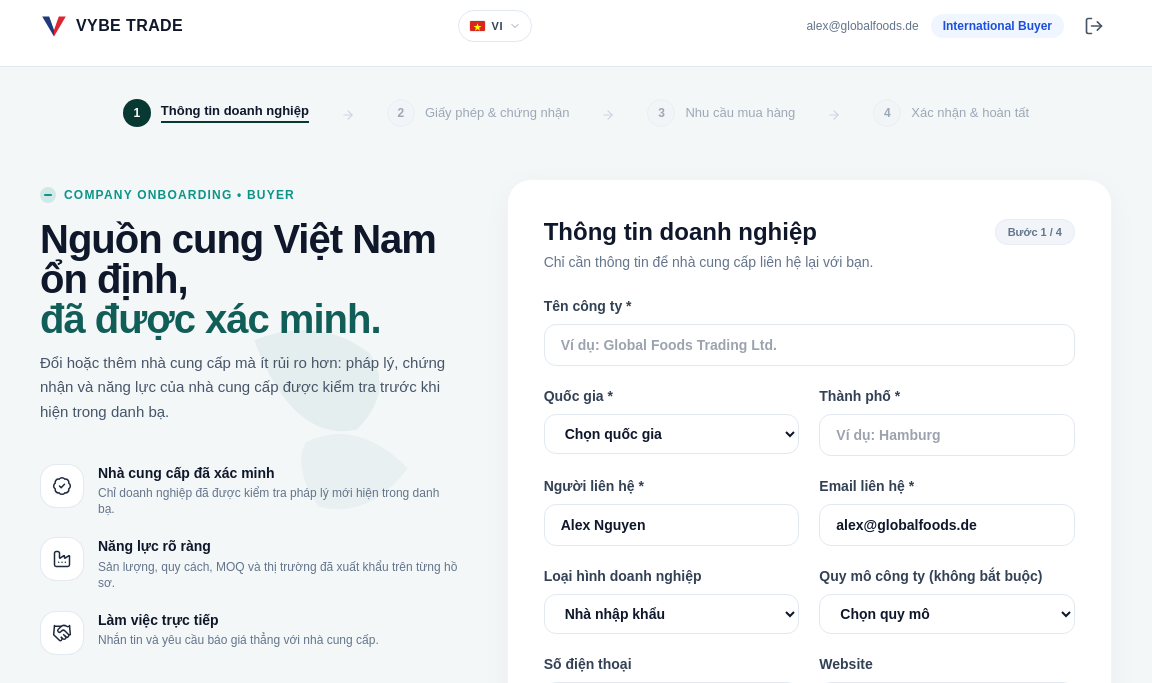
BuyerOnboarding tối giản (U5) › bước 2: các trường tra registry EU (VAT, số đăng ký, LEI, cơ quan và địa chỉ đăng ký), không có ô gửi yêu cầu xác minh
In the field labelled "Tên công ty *": (809, 345) [544,324,1075,366], type "Global Foods GmbH"
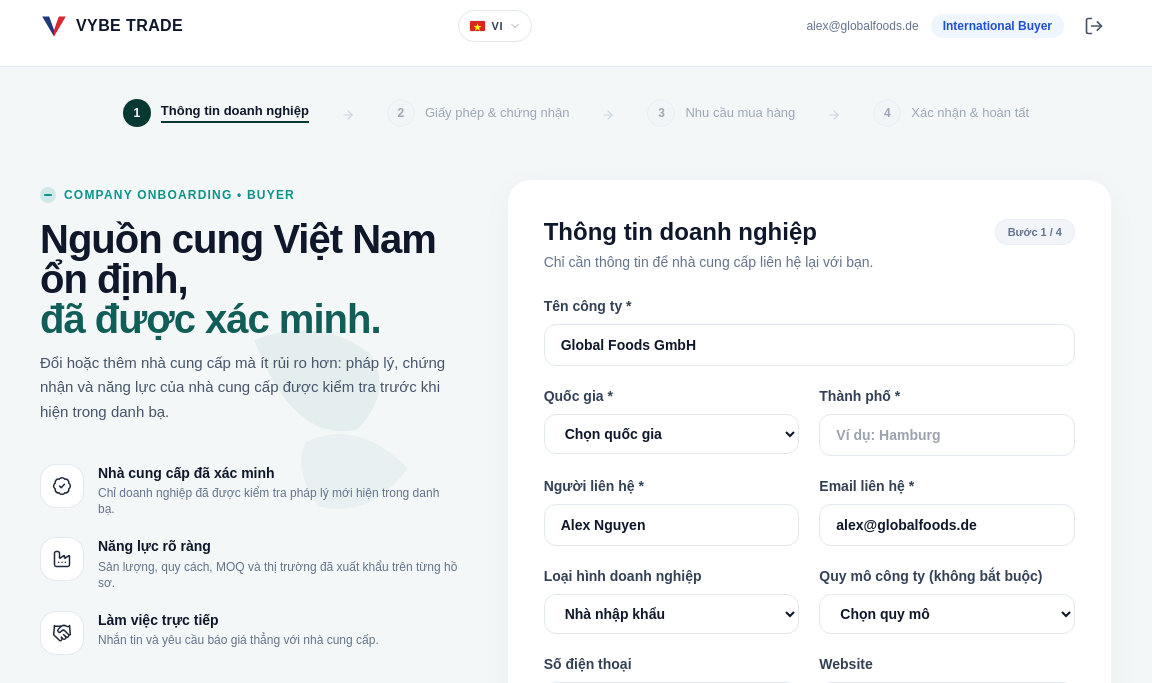
Select "Germany" in the dropdown labelled "Quốc gia *": (672, 434) [544,414,799,454]
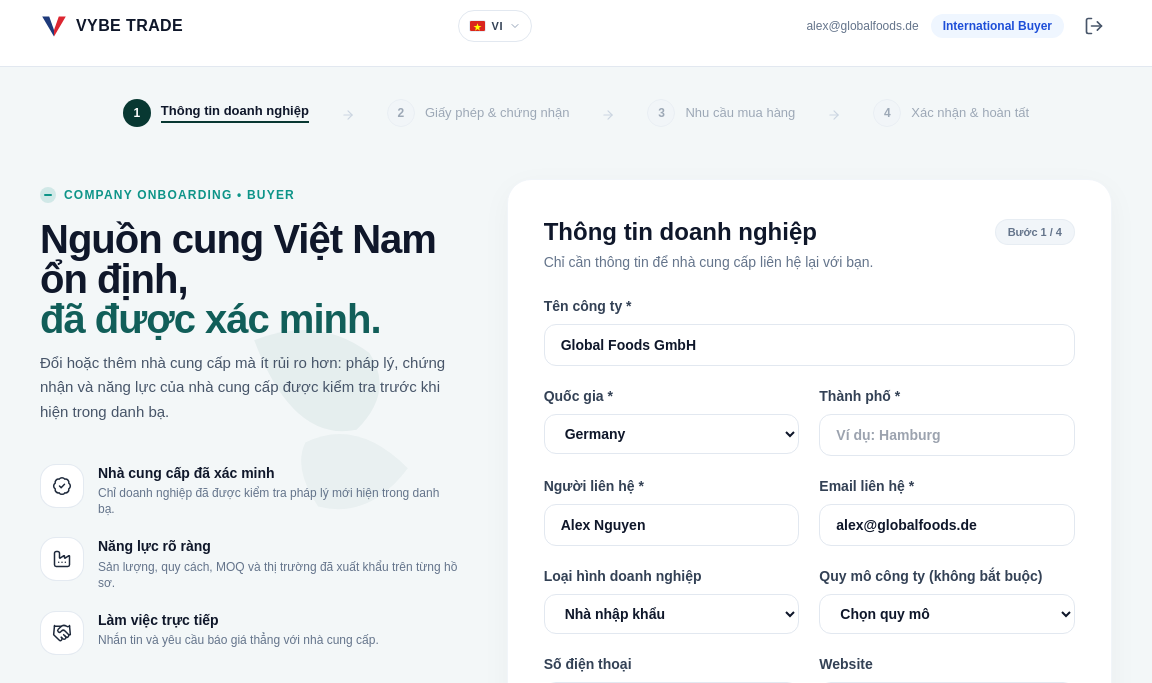
In the field labelled "Thành phố *": (947, 435) [819,414,1075,456], type "Hamburg"
(page scrolled)
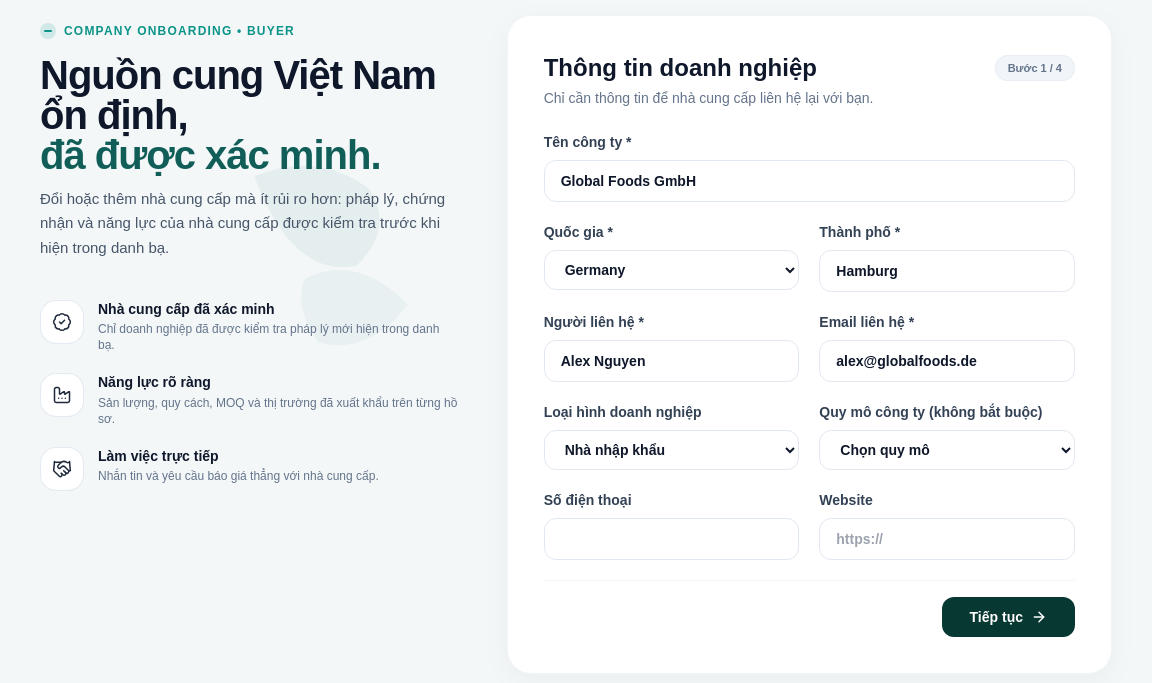
Submit the form, box [544,132,1075,637]
(page scrolled)
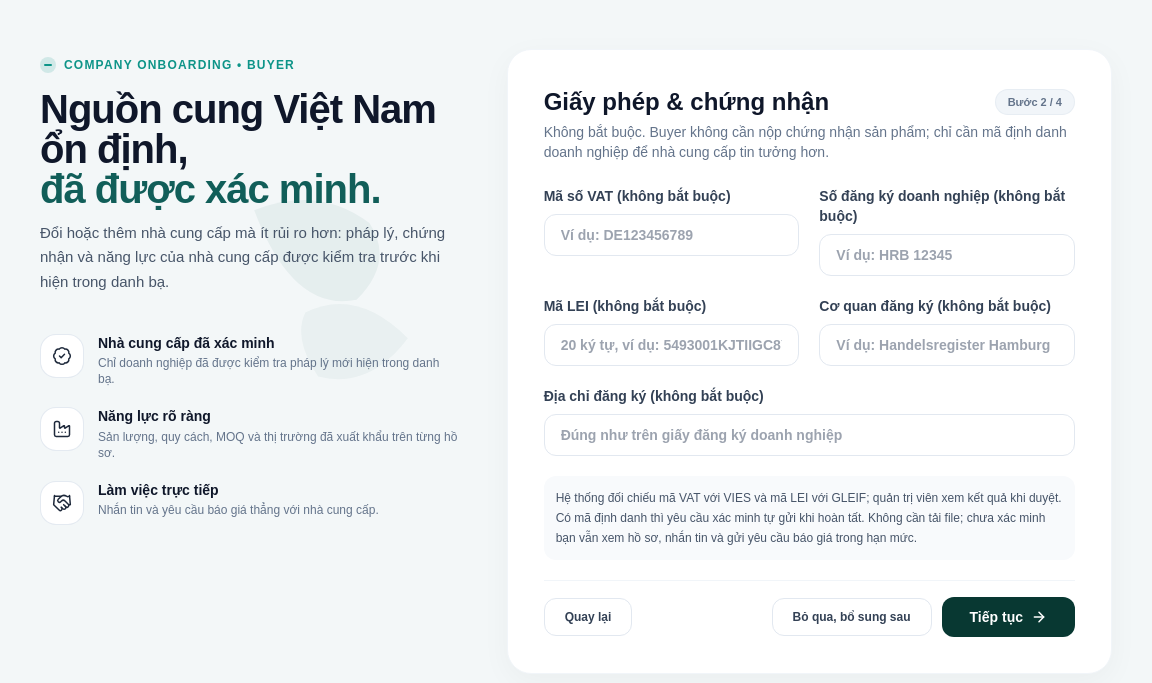
Check: the text "Bước 2 / 4" is shown, box [995,89,1075,115]
